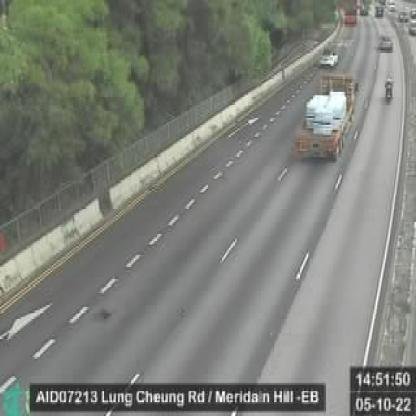Car: (377, 35, 394, 50), (318, 50, 336, 64)
Truck: (292, 72, 358, 164)
